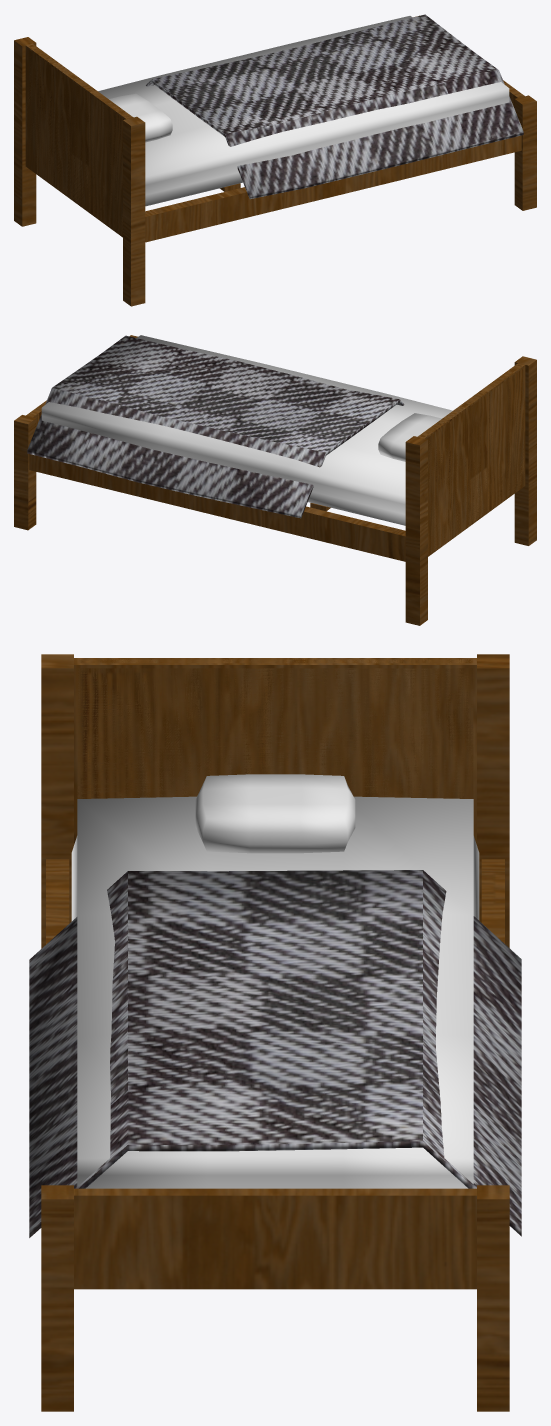
The model's file is bed.fbx.
The picture shows the model from 3 angles, top to bottom: view 1: azimuth 30°, elevation 25°; view 2: azimuth 150°, elevation 25°; view 3: azimuth 270°, elevation 25°; orthographic projection. The views are drawn at different scales.
Parts seen in each view (by area): view 1: bed; view 2: bed; view 3: bed.
Part boxes in pixels (x1,y1,x2,y2): bed: (14, 14, 536, 306); bed: (14, 335, 536, 625); bed: (29, 654, 521, 1411).
Bounding box in the file's own units: 2 × 0.85 × 1.05.
Materials: 3 (2 with a texture image).
